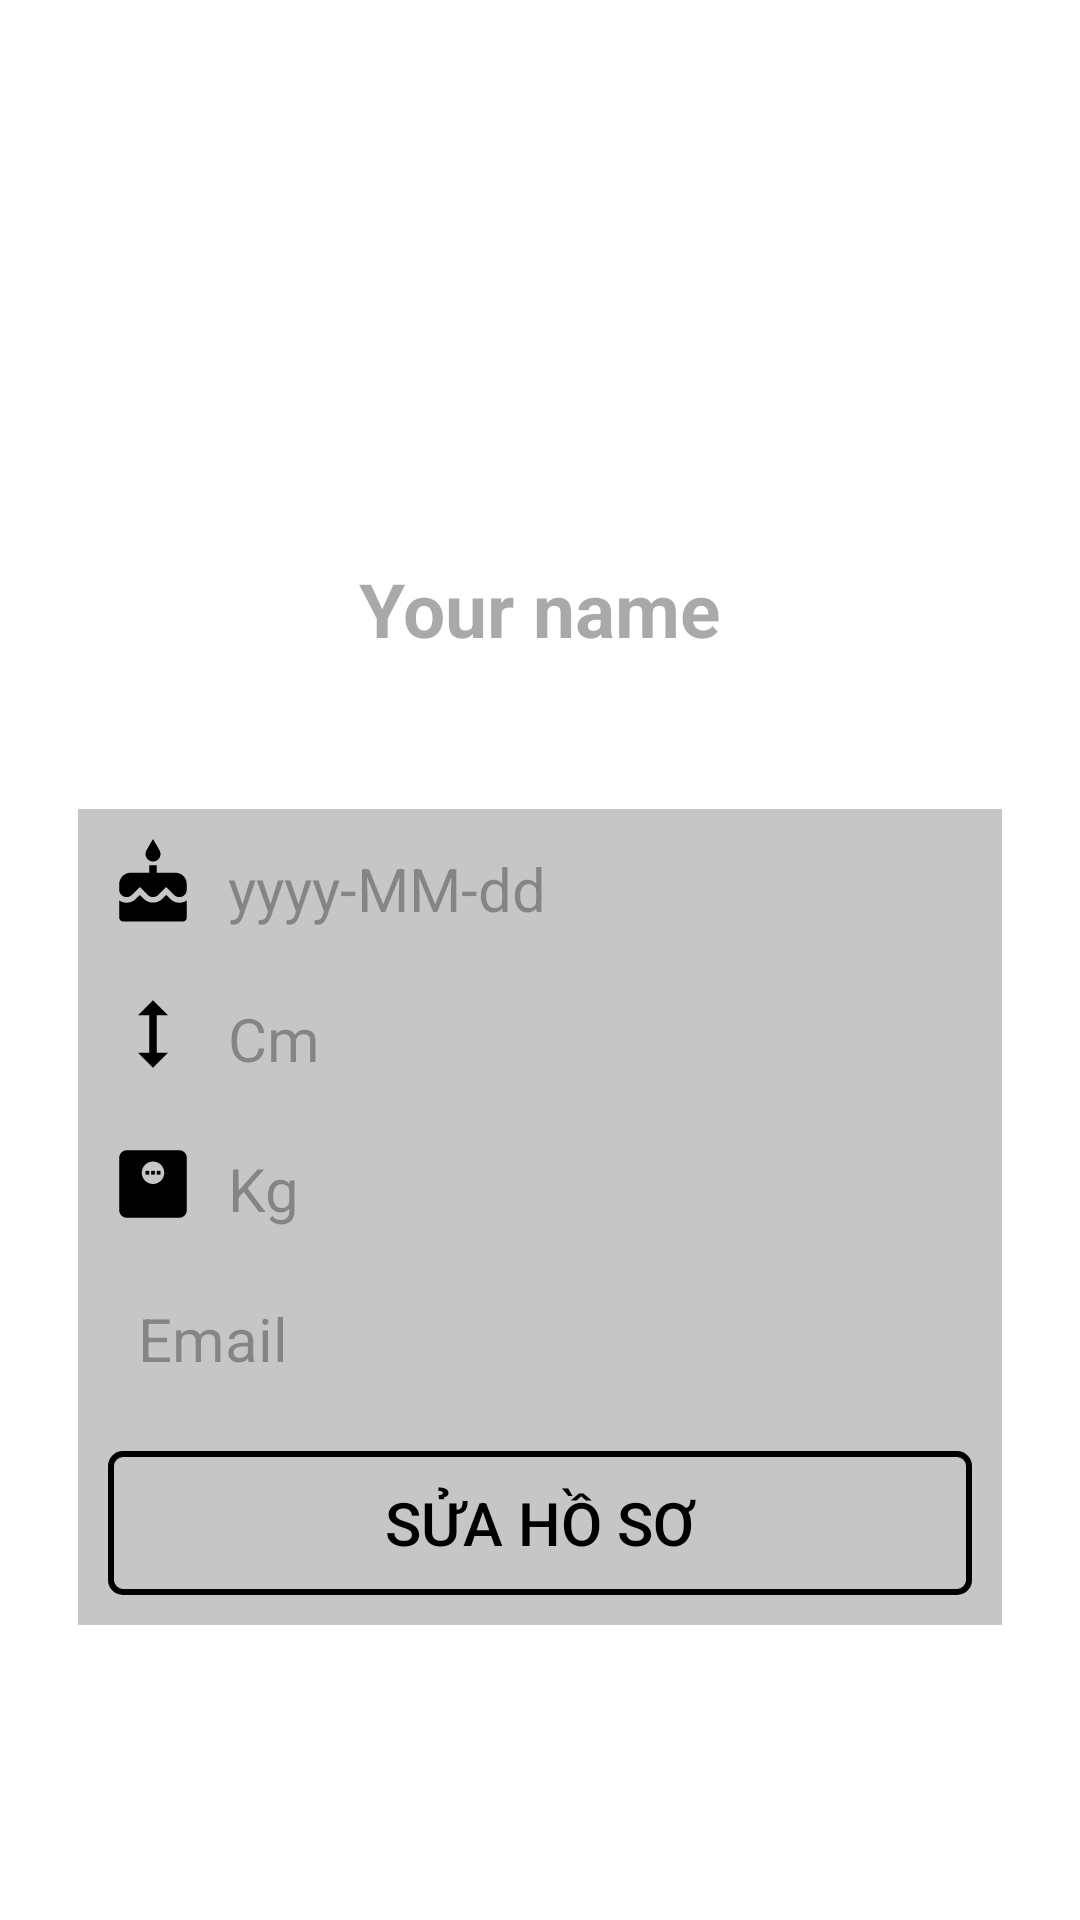

Named icons in this screenshot (1080*1920) and their bounding boxes, (x1=x1, y1=y1, x2=x2, y2=y2):
birthday: (x1=119, y1=839, x2=187, y2=922)
height: (x1=138, y1=1000, x2=168, y2=1068)
weight: (x1=119, y1=1150, x2=187, y2=1218)
